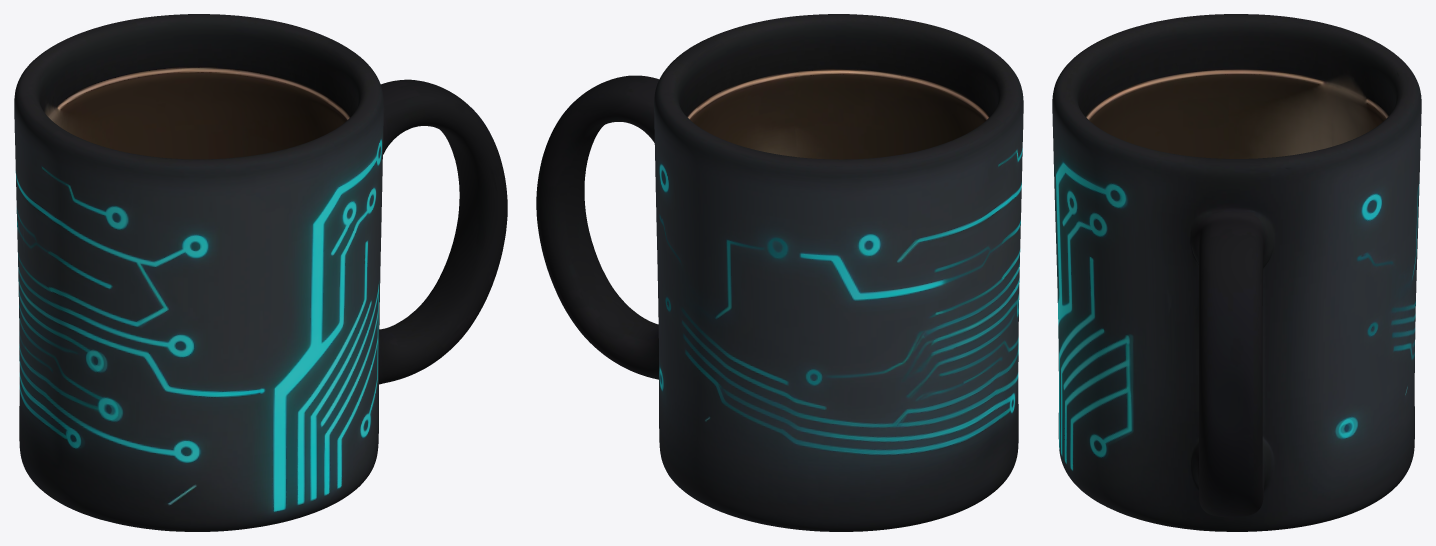
Rendered from tazadecafe.glb.
3 renders of one model, left to right at view 1: azimuth 30°, elevation 25°; view 2: azimuth 150°, elevation 25°; view 3: azimuth 270°, elevation 25°, orthographic.
Visible parts, largest first — view 1: node_0; view 2: node_0; view 3: node_0.
Boxes of the visible parts, box(x1,y1,x2,y2) form: node_0: box(14, 14, 507, 531); node_0: box(536, 14, 1023, 531); node_0: box(1052, 14, 1421, 531).
Bounding box in the file's own units: 0.9583 × 0.7504 × 0.6743.
Materials: 1 (1 with a texture image).
